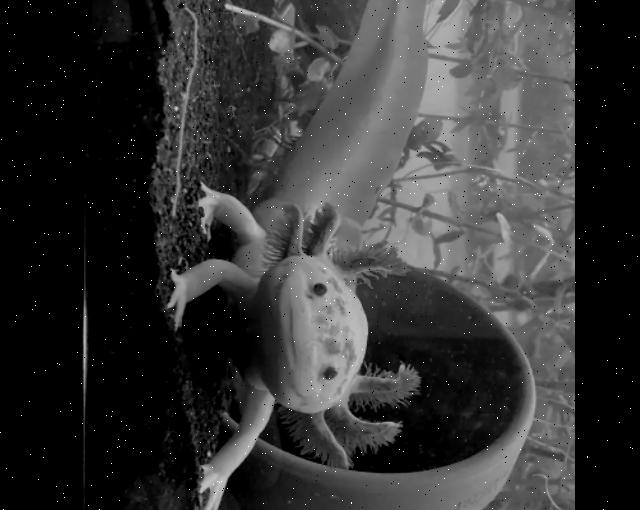Mulut: (274, 292, 308, 390)
Sirip Ekor: (334, 0, 448, 65)
